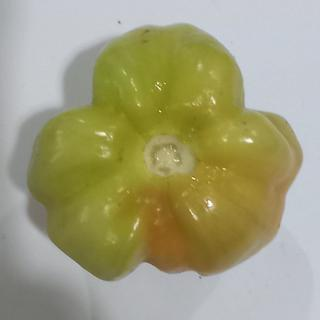Grade-B: (24, 20, 304, 283)
